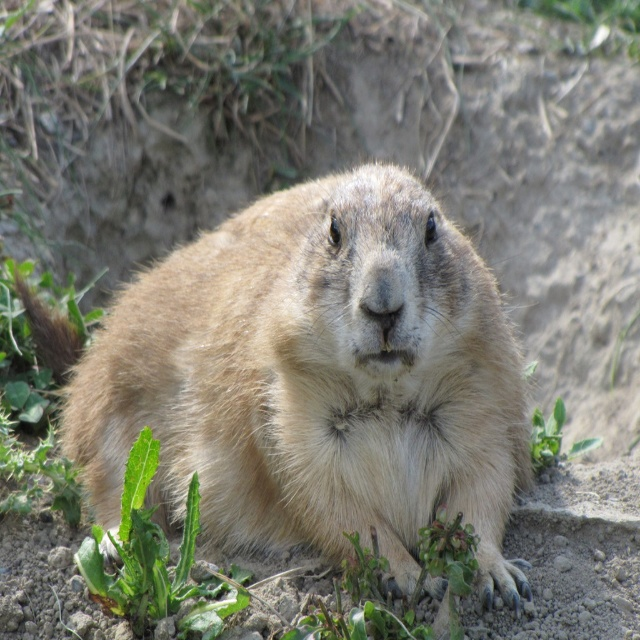Squirrel: (9, 152, 550, 620)
